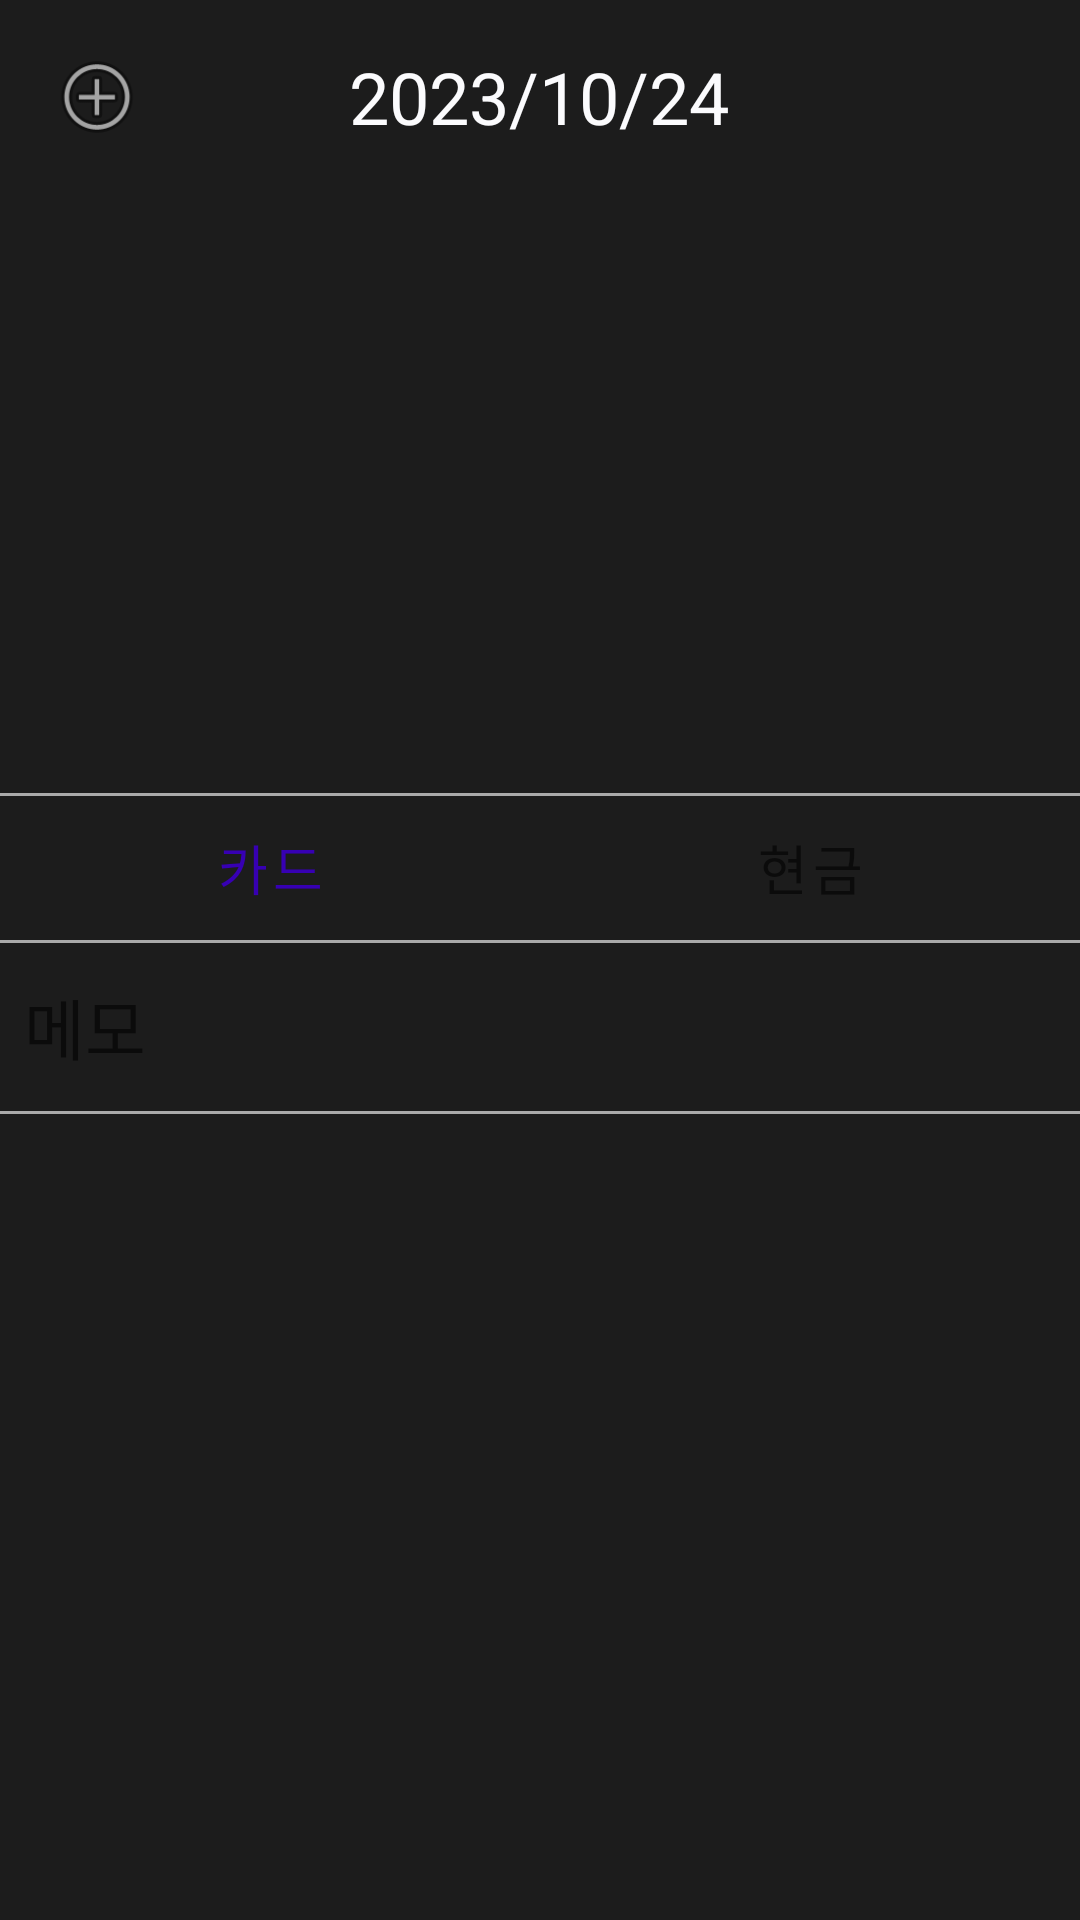

Icon click points for this 1080px×1920px phone screenshot, format (x,y):
add: (97,97)
